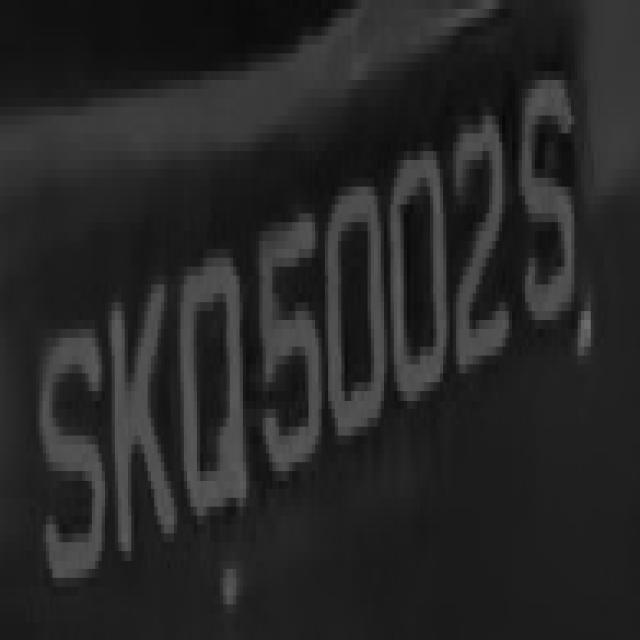0: (374, 134, 453, 436), (315, 143, 387, 444)
2: (447, 71, 502, 400)
5: (253, 178, 328, 471)
K: (95, 249, 174, 604)
Q: (174, 231, 253, 533)
S: (30, 311, 109, 578), (512, 62, 578, 338)
